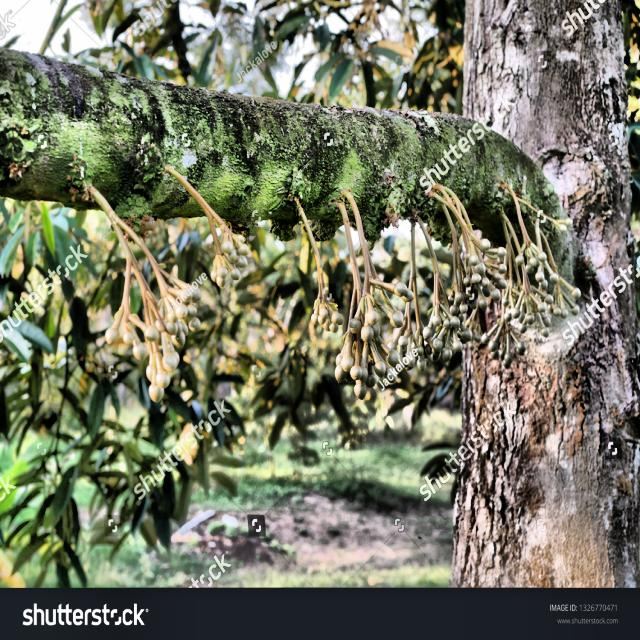arvore: (448, 0, 640, 586)
